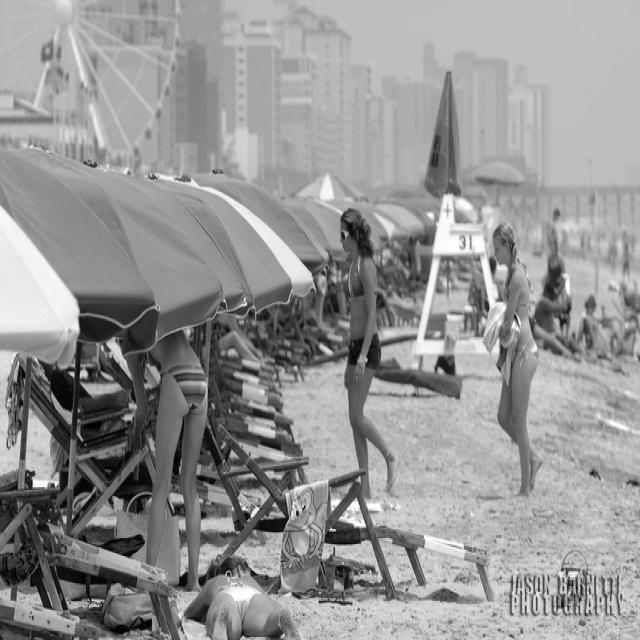monkey: (45, 253, 572, 436), (124, 329, 210, 589), (339, 209, 401, 497), (493, 223, 543, 500), (184, 553, 303, 640), (532, 280, 579, 364), (575, 293, 626, 364), (216, 331, 267, 366), (542, 240, 566, 303), (301, 273, 327, 323), (325, 259, 341, 313), (547, 210, 561, 261), (623, 244, 631, 283), (587, 233, 593, 253)
